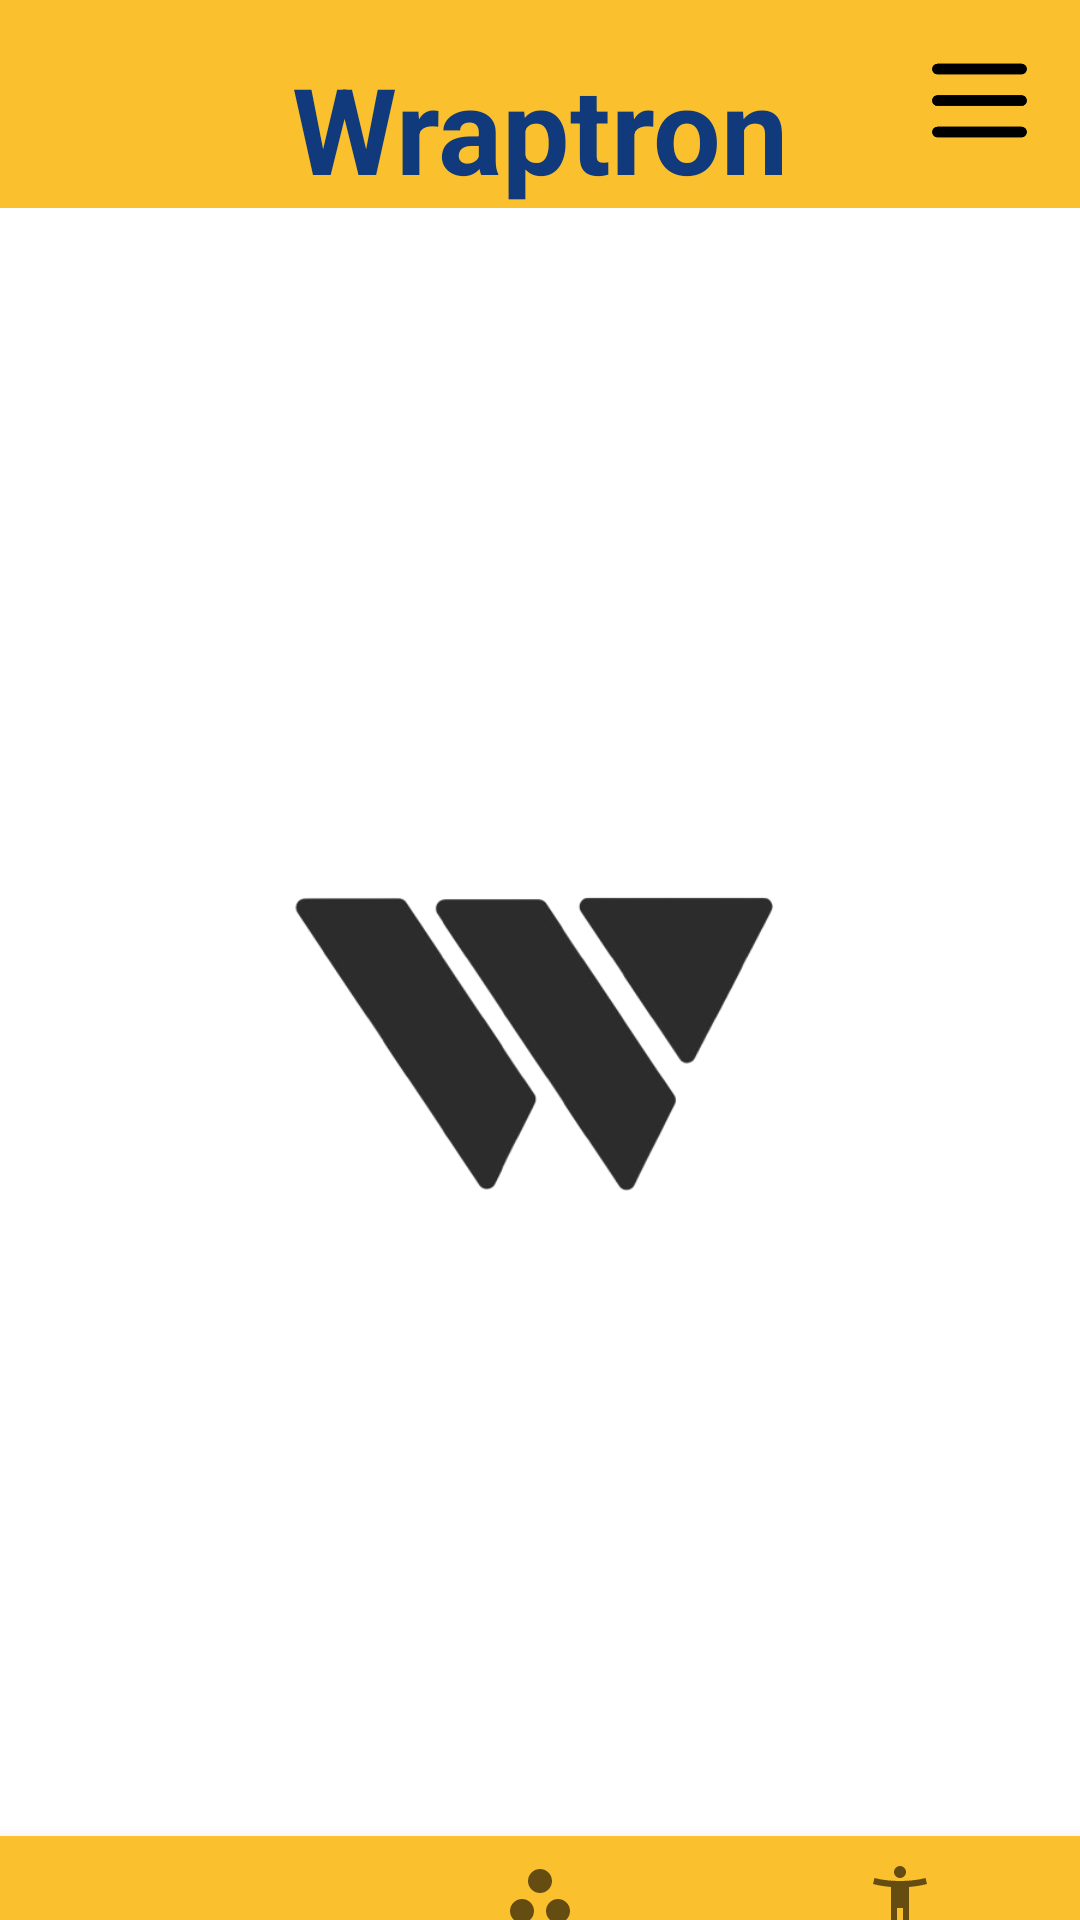

Named icons in this screenshot (1080×1920) and their centers, (x,y):
Menu Icon: (979,100)
